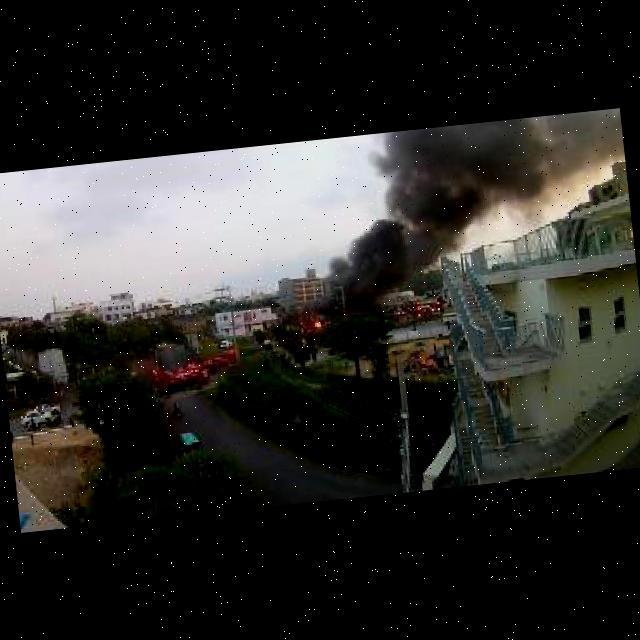Fire: (312, 320, 323, 327)
Smoke: (310, 109, 630, 312)
